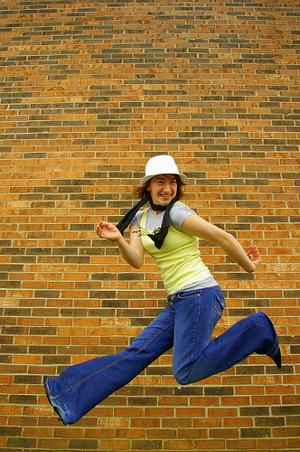person: (42, 150, 280, 427)
